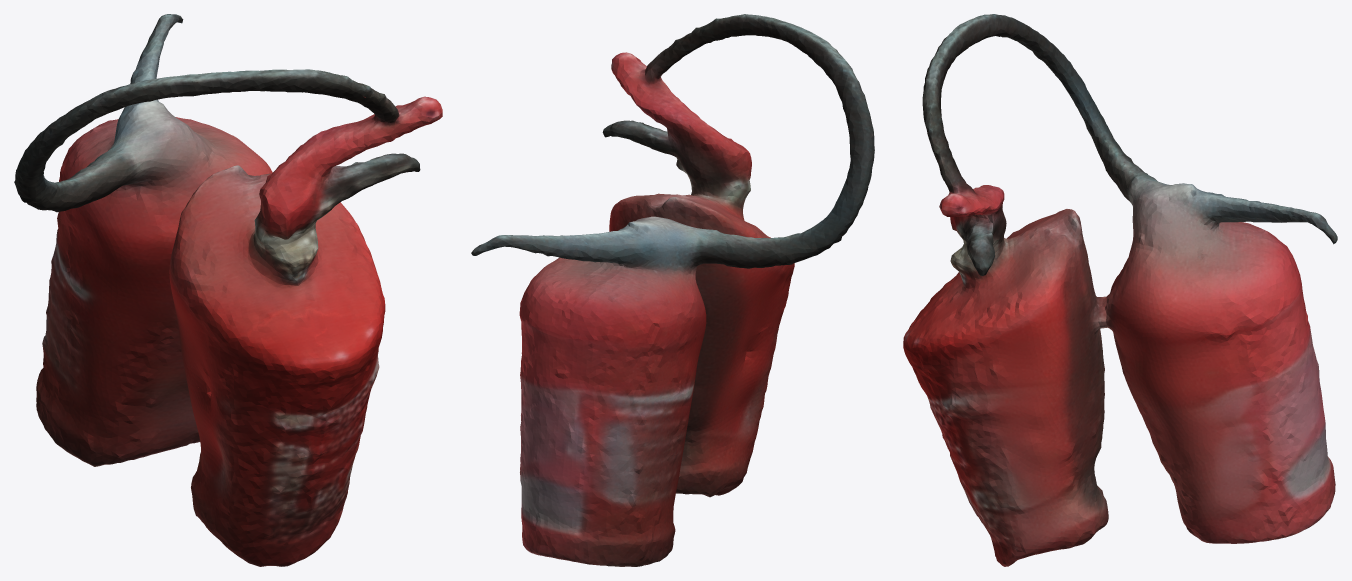
Rendered from IMG_SEG_47.glb.
3 renders of one model, left to right at view 1: azimuth 30°, elevation 25°; view 2: azimuth 150°, elevation 25°; view 3: azimuth 270°, elevation 25°, orthographic. The views are drawn at different scales.
Bounding box in the file's own units: 0.6696 × 0.9632 × 0.7867.
Materials: 1 (1 with a texture image).
